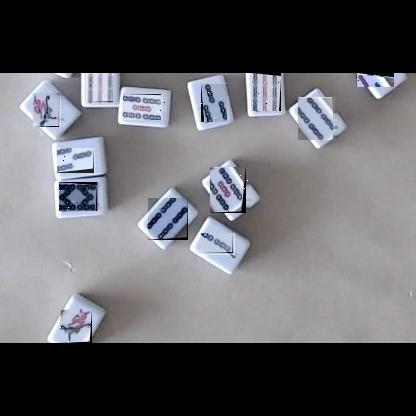1s: (60, 309, 92, 343), (34, 93, 64, 127)
2s: (202, 234, 238, 258)
3s: (58, 148, 99, 173), (201, 83, 227, 122)
4s: (148, 198, 188, 240), (299, 97, 338, 140)
5s: (211, 167, 251, 213), (124, 94, 166, 120)
7s: (356, 73, 394, 87)
8s: (60, 182, 102, 211)
9s: (251, 73, 281, 111), (86, 73, 113, 102)
